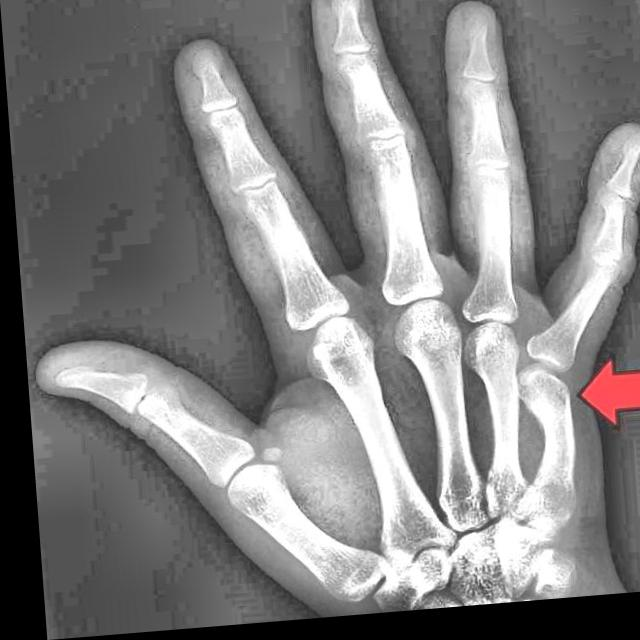fracture: (509, 385, 568, 429)
